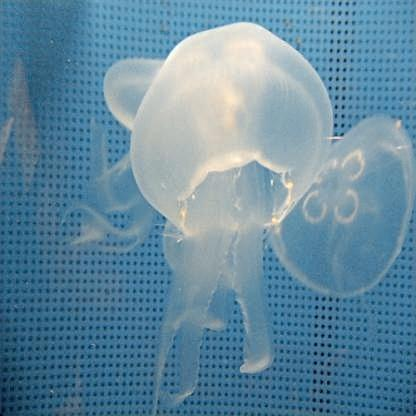Speckle: (135, 26, 333, 410), (272, 113, 412, 298), (78, 60, 197, 257), (4, 63, 38, 189)
